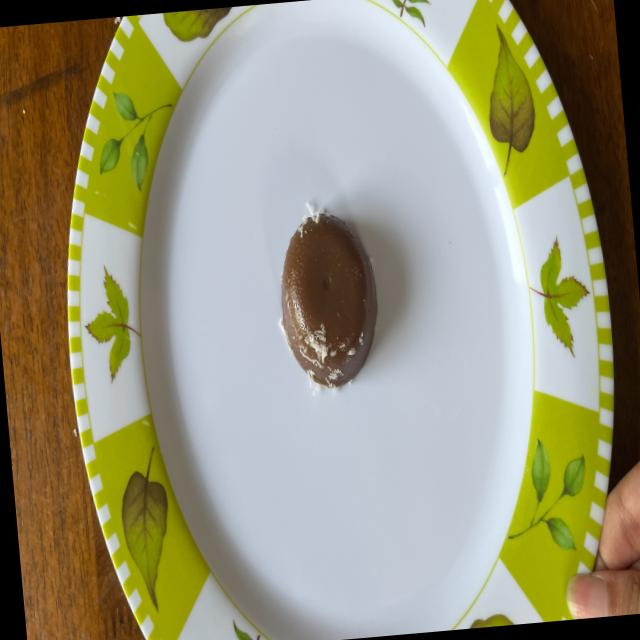Kuih lompang: (280, 208, 377, 388)
